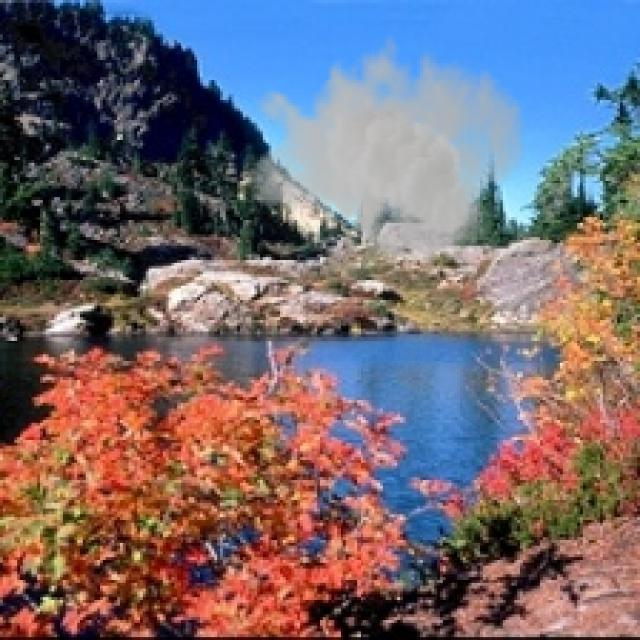smoke: (245, 23, 526, 268)
